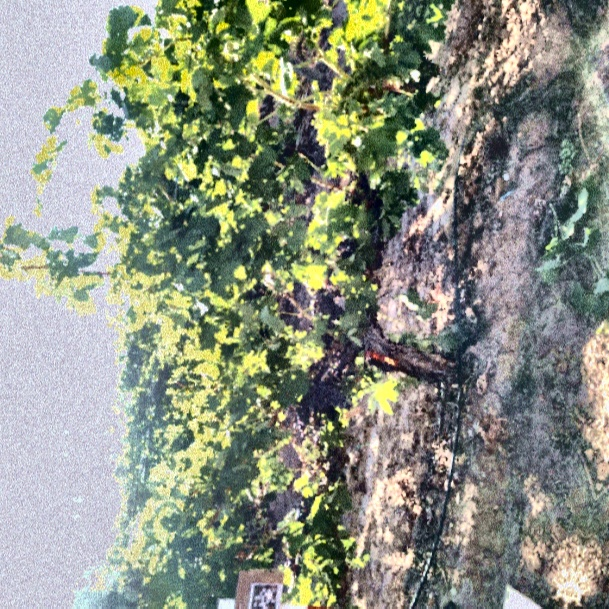QR: (245, 581, 283, 609)
